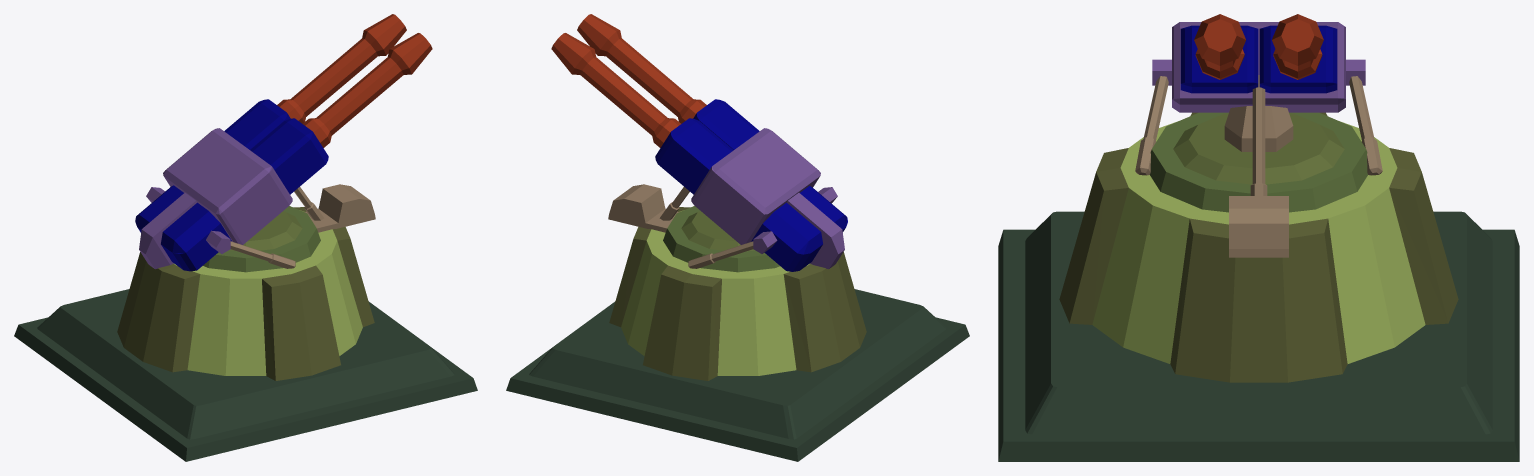
File: Cannon-RR-2.fbx
The picture shows the model from 3 angles, left to right: view 1: azimuth 30°, elevation 25°; view 2: azimuth 150°, elevation 25°; view 3: azimuth 270°, elevation 25°; orthographic projection. The views are drawn at different scales.
Parts seen in each view (by area): view 1: russien_3:base, russien_2:attack; view 2: russien_3:base, russien_2:attack; view 3: russien_3:base, russien_2:attack.
Part boxes in pixels (x1,y1,x2,y2): russien_3:base: (14, 206, 477, 461); russien_2:attack: (135, 14, 432, 271); russien_3:base: (506, 206, 969, 461); russien_2:attack: (551, 14, 847, 271); russien_3:base: (998, 112, 1519, 461); russien_2:attack: (1135, 14, 1382, 257).
Bounding box in the file's own units: 2261 × 2042 × 2121.
